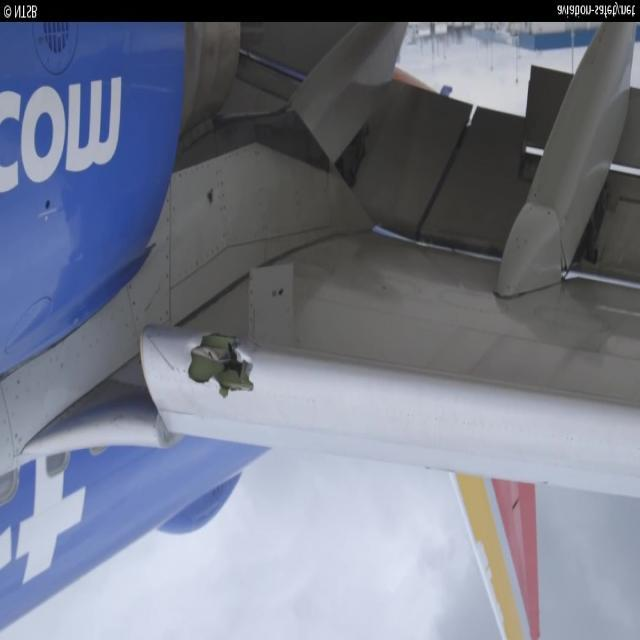crack: (186, 328, 259, 404)
